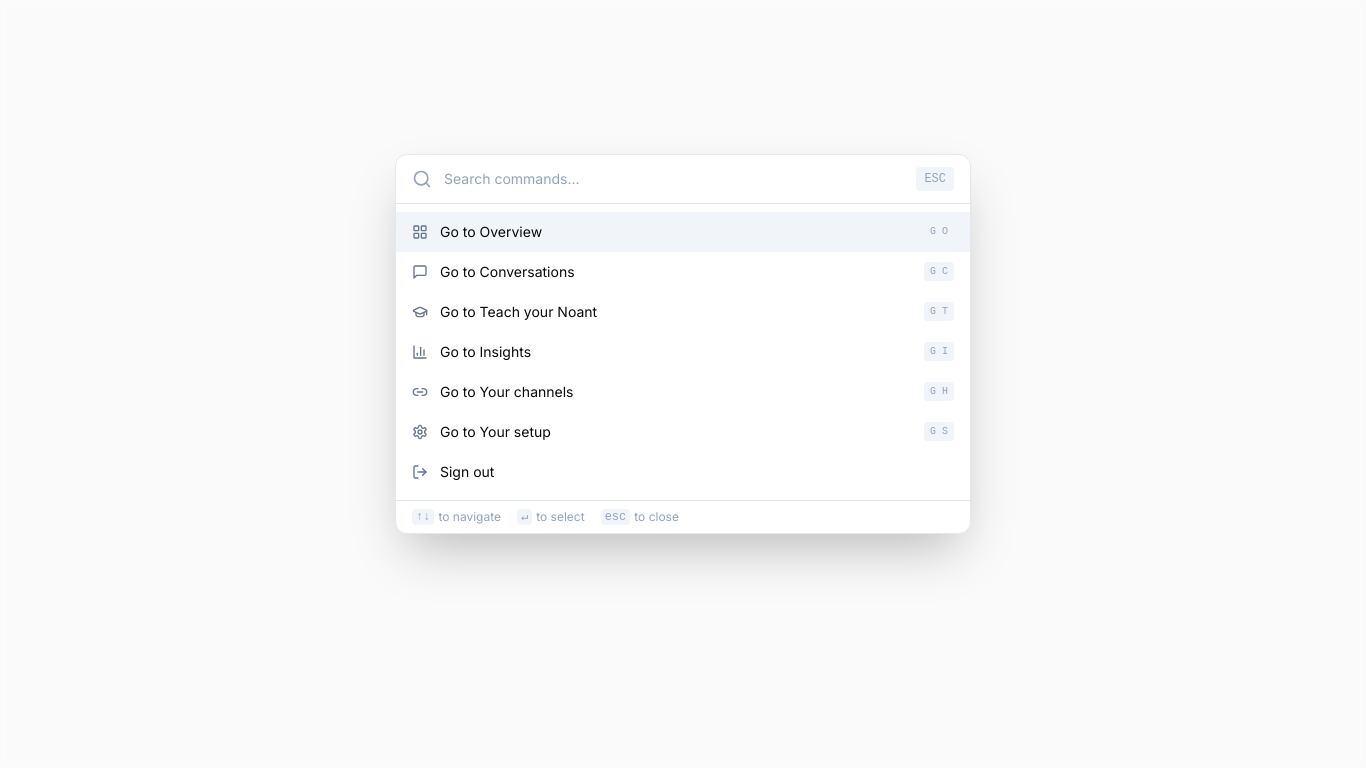
Test: CommandPalette › shows no commands found for unmatched search
This screenshot has width=1366, height=768.
Type "zzzzzzz" into the dropdown at [674, 179], box [444,169,904,189]
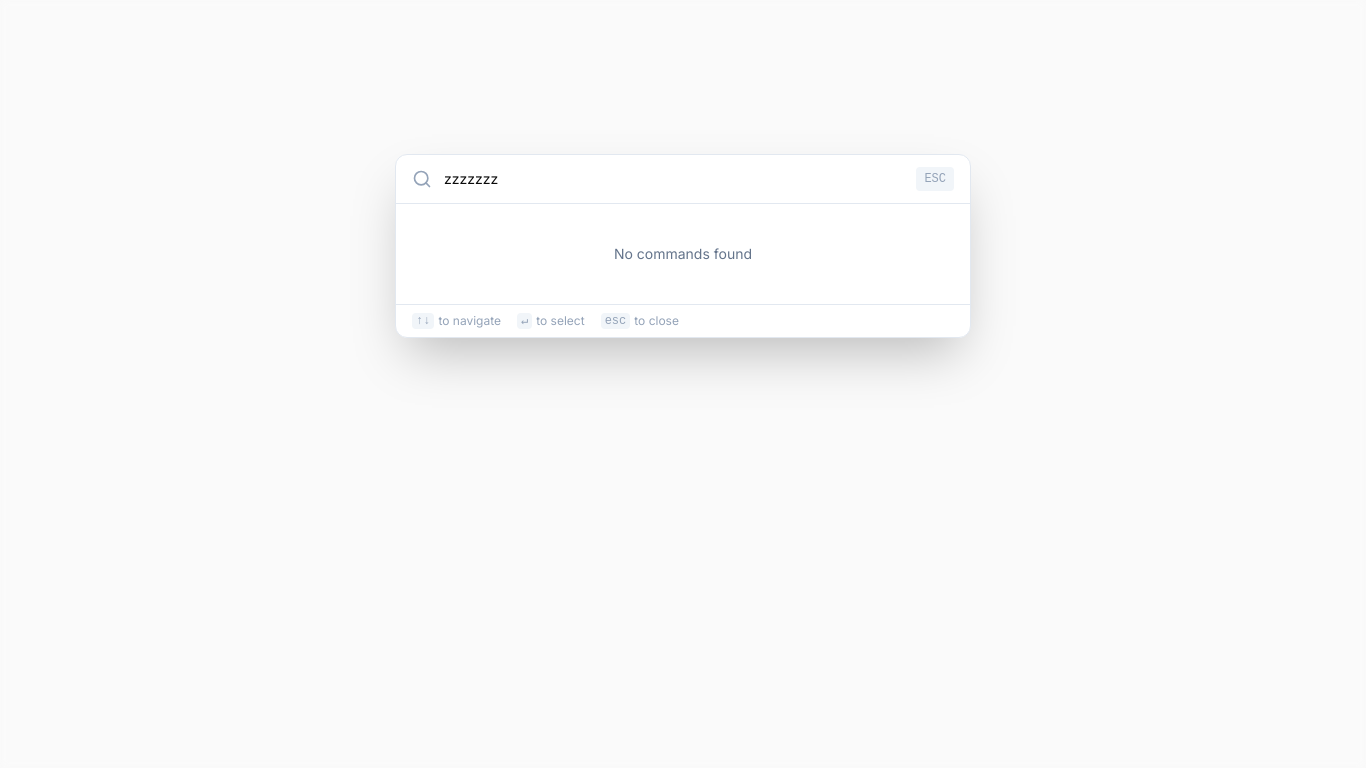
Expected: the text "No commands found" is shown, [614,245,752,262]
